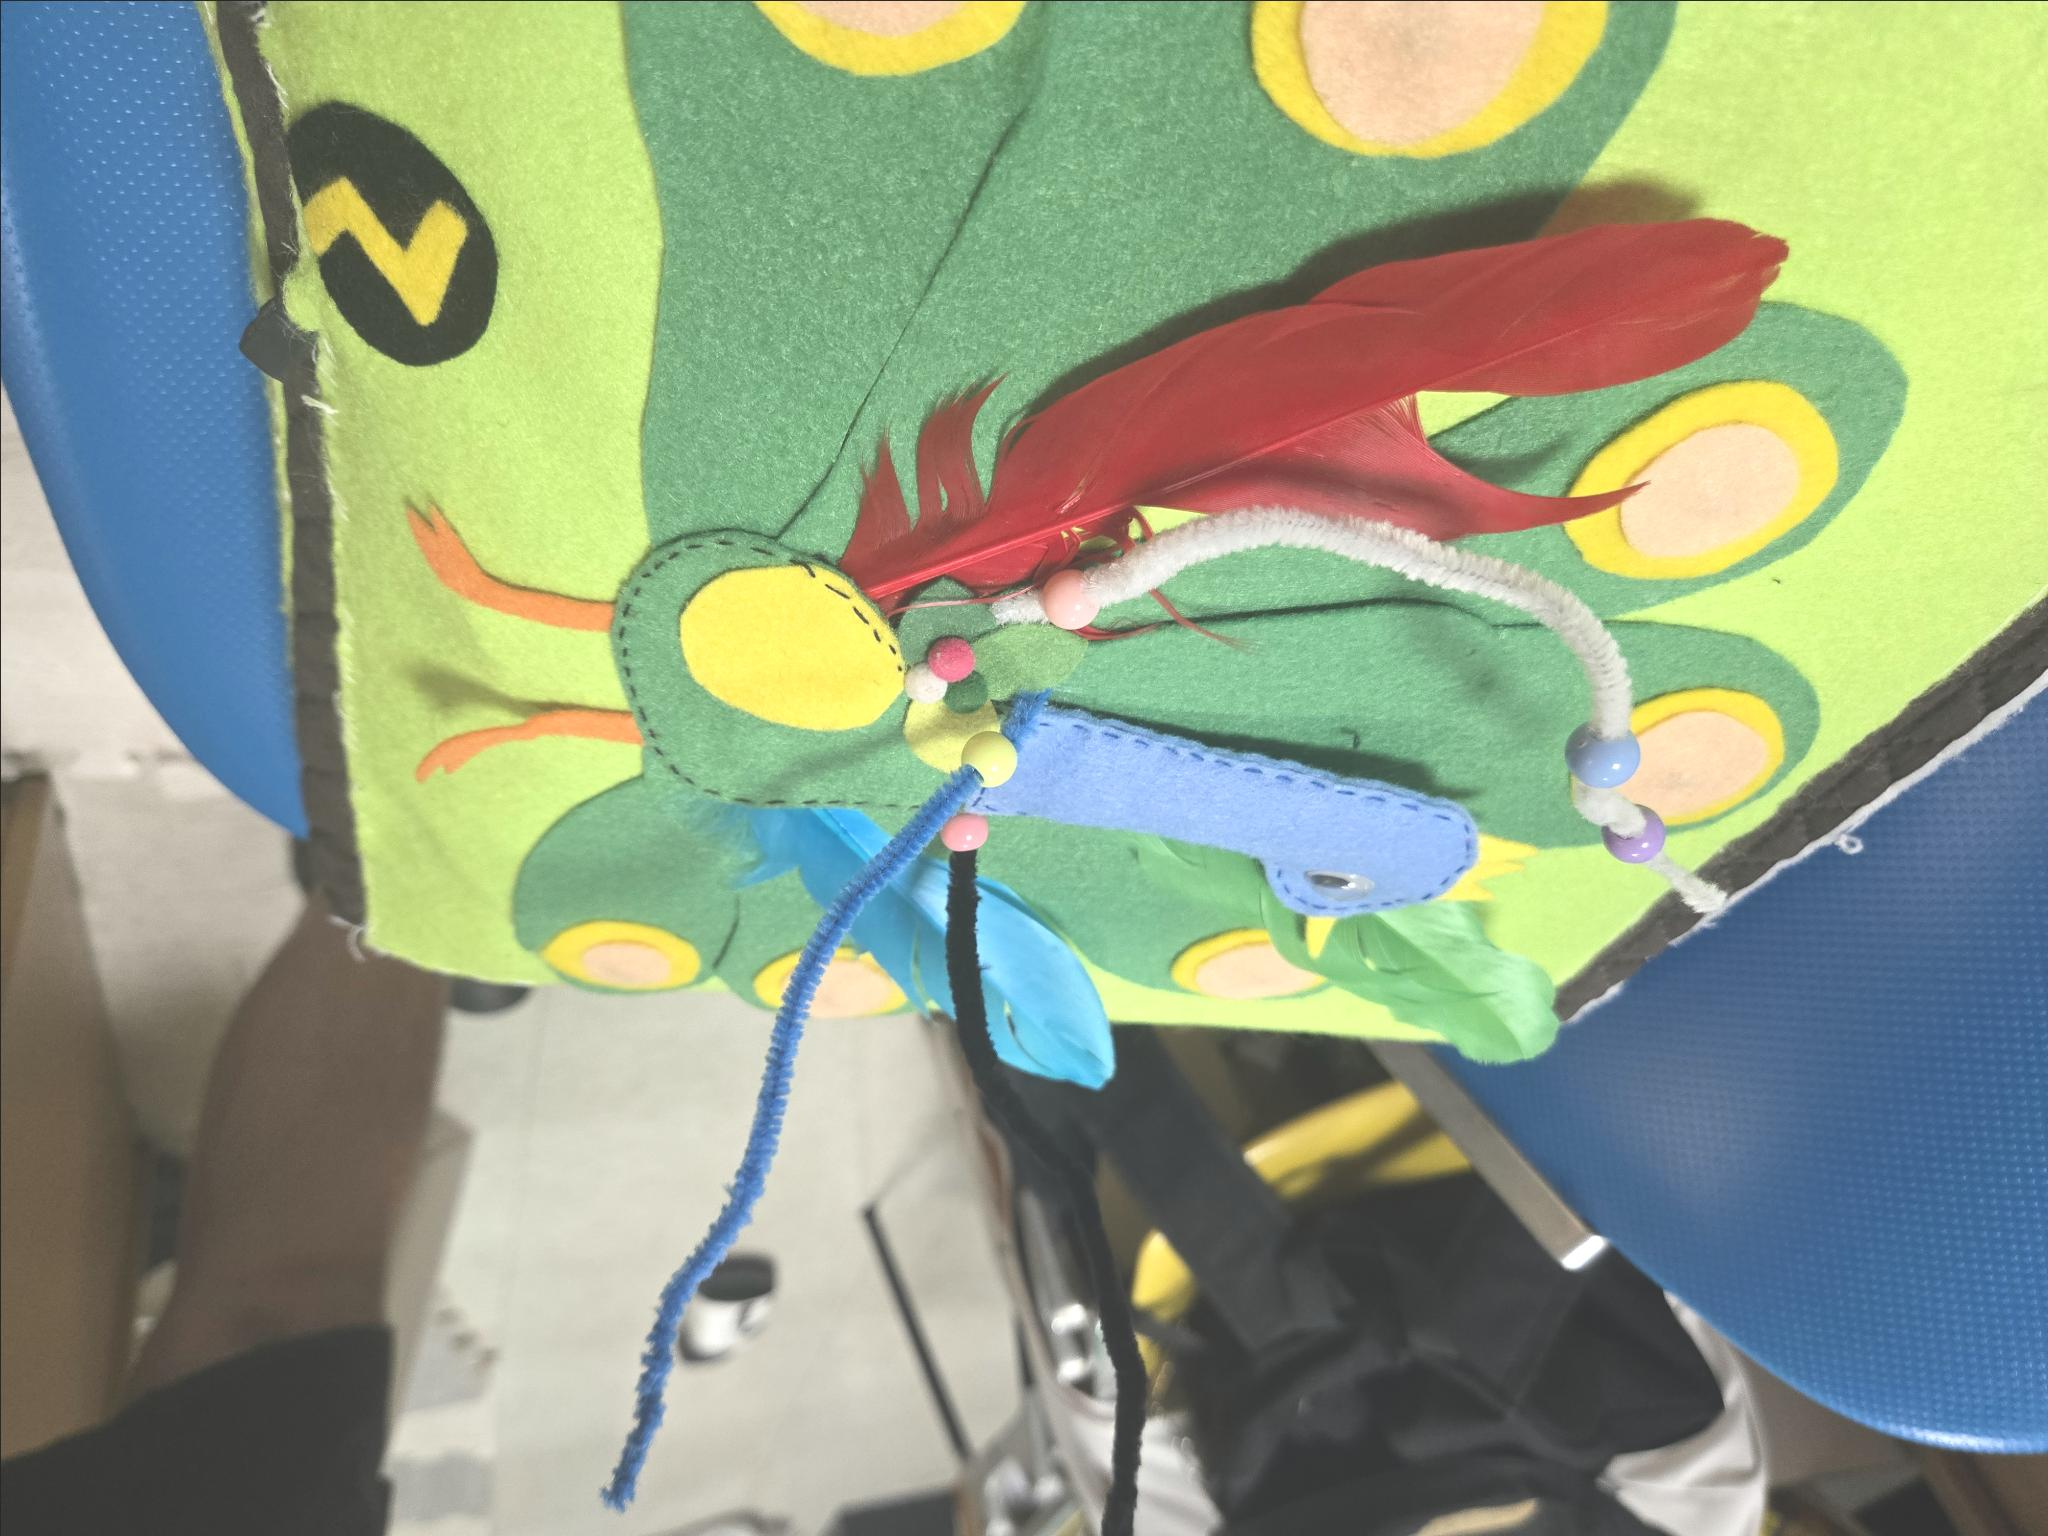bead: (1556, 712, 1651, 795), (1603, 808, 1671, 884), (1035, 568, 1098, 649), (958, 726, 1019, 795), (932, 816, 993, 878)
